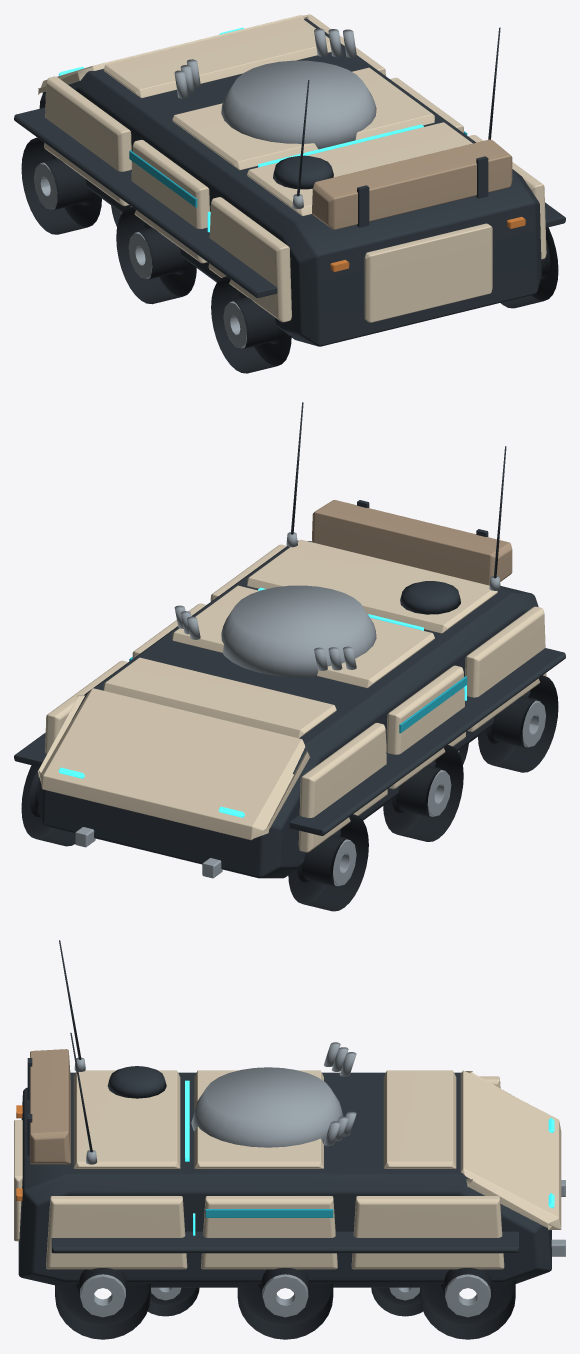
The model's file is Vehicles.fbx.
3 renders of one model, top to bottom at view 1: azimuth 30°, elevation 25°; view 2: azimuth 150°, elevation 25°; view 3: azimuth 270°, elevation 25°, orthographic. The views are drawn at different scales.
Parts seen in each view (by area): view 1: Bastion_Mount; view 2: Bastion_Mount; view 3: Bastion_Mount, Skimmer_Mount.
Boxes of the visible parts, x1=… form: Bastion_Mount: x1=14, y1=14, x2=565, y2=373; Bastion_Mount: x1=14, y1=402, x2=565, y2=911; Bastion_Mount: x1=14, y1=940, x2=565, y2=1339; Skimmer_Mount: x1=147, y1=1287, x2=423, y2=1316.
Bounding box in the file's own units: 3.04 × 2.74 × 4.84.
